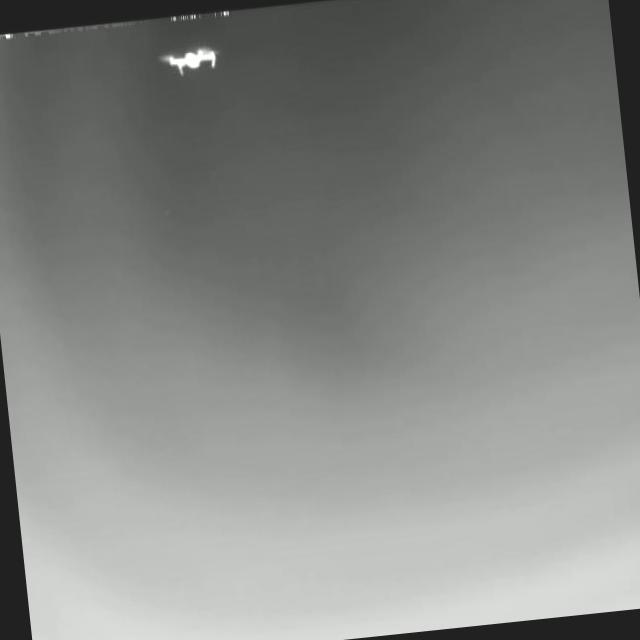DRONE: (155, 43, 222, 77)
